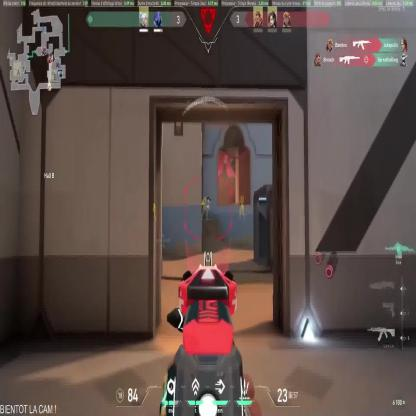enemy: (201, 196, 209, 221), (239, 196, 245, 222), (152, 201, 157, 223)
enemy_head: (240, 197, 244, 201), (153, 202, 156, 206), (204, 197, 206, 201)
